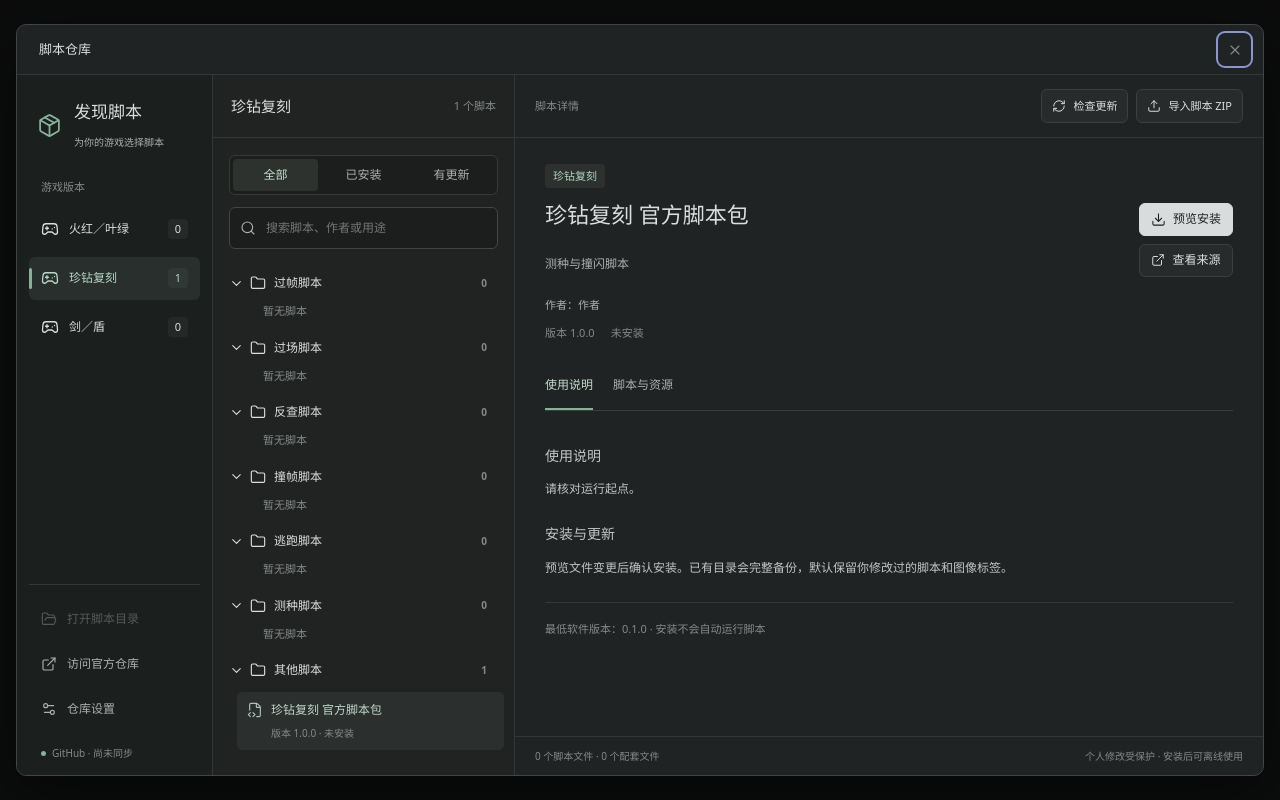
Test case: browsing and preview do not install until confirmation, then refresh the local library
Click the button "预览安装".
click(1186, 219)  # box x1=1139 y1=203 x2=1233 y2=236
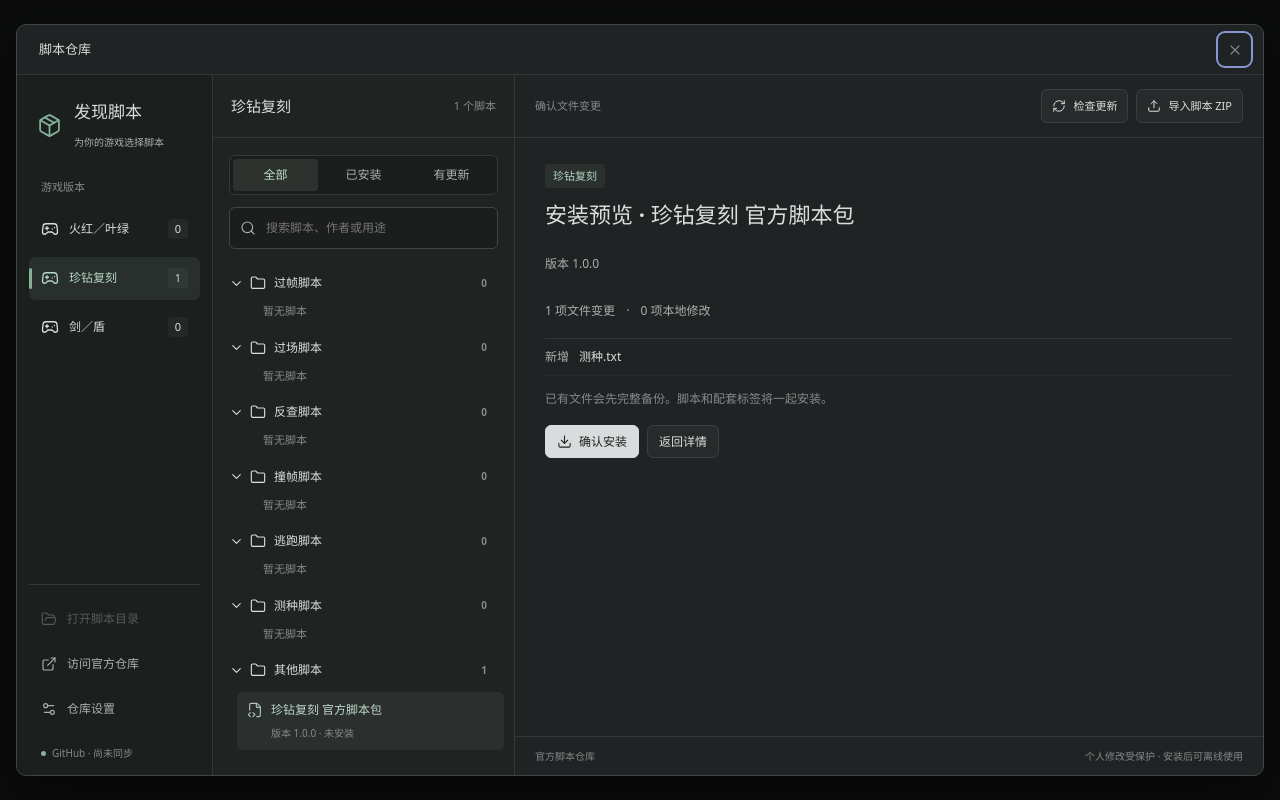
expect the heading "安装预览 · 珍钻复刻 官方脚本包" is shown: met, box x1=545 y1=199 x2=854 y2=229
Click the button "确认安装".
click(592, 442)  # box x1=545 y1=425 x2=639 y2=458
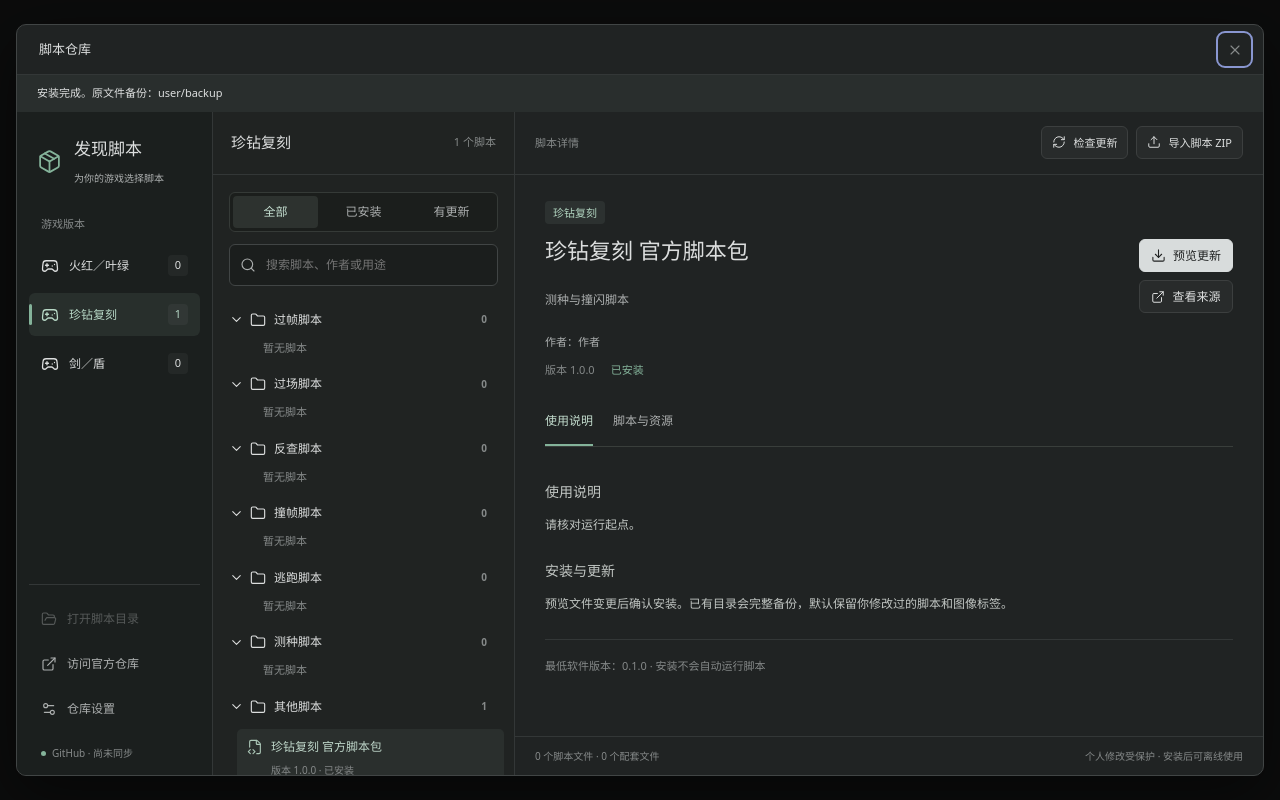
expect the message shows "user/backup": met, box x1=37 y1=85 x2=223 y2=100
